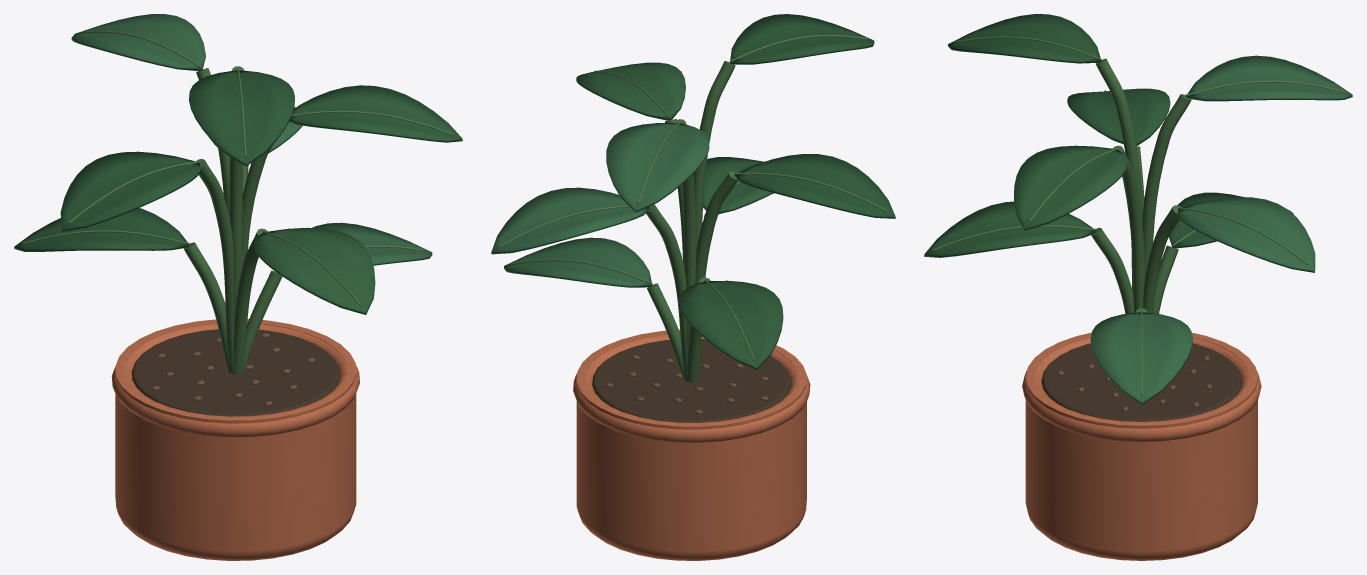
The model's file is plantSmall.glb.
3 views of the same model, side by side, from view 1: azimuth 30°, elevation 25°; view 2: azimuth 150°, elevation 25°; view 3: azimuth 270°, elevation 25° (orthographic). The views are drawn at different scales.
Visible parts, largest first — view 1: Ceramic planter, Soil, Leaf blade 8, Leaf blade 3, Leaf blade 5, Leaf blade 6, Pot rim, Leaf blade 7, Leaf blade 2, Stem.004, Leaf blade 1, Stem.002 (+5 smaller); view 2: Ceramic planter, Soil, Leaf blade 7, Leaf blade 2, Leaf blade 5, Leaf blade 4, Leaf blade 1, Pot rim, Leaf blade 8, Leaf blade 6, Leaf blade 3, Stem.003 (+5 smaller); view 3: Ceramic planter, Soil, Leaf blade 1, Leaf blade 6, Leaf blade 4, Leaf blade 7, Leaf blade 8, Pot rim, Leaf blade 3, Leaf blade 5, Stem.006, Stem.005 (+5 smaller).
Part boxes in pixels (left/top/right/bottom): Ceramic planter: left=115, top=319, right=356, bottom=560; Soil: left=132, top=329, right=339, bottom=416; Leaf blade 8: left=189, top=70, right=294, bottom=166; Leaf blade 3: left=254, top=227, right=375, bottom=314; Leaf blade 5: left=60, top=151, right=200, bottom=231; Leaf blade 6: left=289, top=85, right=462, bottom=142; Pot rim: left=111, top=323, right=359, bottom=437; Leaf blade 7: left=71, top=14, right=205, bottom=71; Leaf blade 2: left=14, top=208, right=189, bottom=251; Stem.004: left=196, top=159, right=234, bottom=373; Leaf blade 1: left=277, top=222, right=432, bottom=273; Stem.002: left=233, top=228, right=267, bottom=374; Ceramic planter: left=576, top=329, right=806, bottom=560; Soil: left=592, top=339, right=790, bottom=422; Leaf blade 7: left=606, top=122, right=709, bottom=212; Leaf blade 2: left=679, top=280, right=783, bottom=369; Leaf blade 5: left=734, top=154, right=895, bottom=218; Leaf blade 4: left=491, top=187, right=649, bottom=254; Leaf blade 1: left=504, top=237, right=652, bottom=287; Pot rim: left=573, top=334, right=810, bottom=442; Leaf blade 8: left=730, top=14, right=874, bottom=64; Leaf blade 6: left=576, top=62, right=685, bottom=120; Leaf blade 3: left=703, top=157, right=773, bottom=214; Stem.003: left=646, top=204, right=687, bottom=381; Ceramic planter: left=1025, top=332, right=1257, bottom=560; Soil: left=1041, top=343, right=1241, bottom=421; Leaf blade 1: left=1090, top=312, right=1192, bottom=404; Leaf blade 6: left=1014, top=145, right=1127, bottom=230; Leaf blade 4: left=1178, top=197, right=1315, bottom=272; Leaf blade 7: left=1186, top=55, right=1352, bottom=101; Leaf blade 8: left=948, top=14, right=1101, bottom=63; Pot rim: left=1022, top=337, right=1261, bottom=441; Leaf blade 3: left=924, top=201, right=1096, bottom=257; Leaf blade 5: left=1067, top=88, right=1170, bottom=145; Stem.006: left=1142, top=94, right=1191, bottom=275; Stem.005: left=1113, top=145, right=1145, bottom=312.
Bounding box in the file's own units: 1.23 × 1.44 × 1.22.
